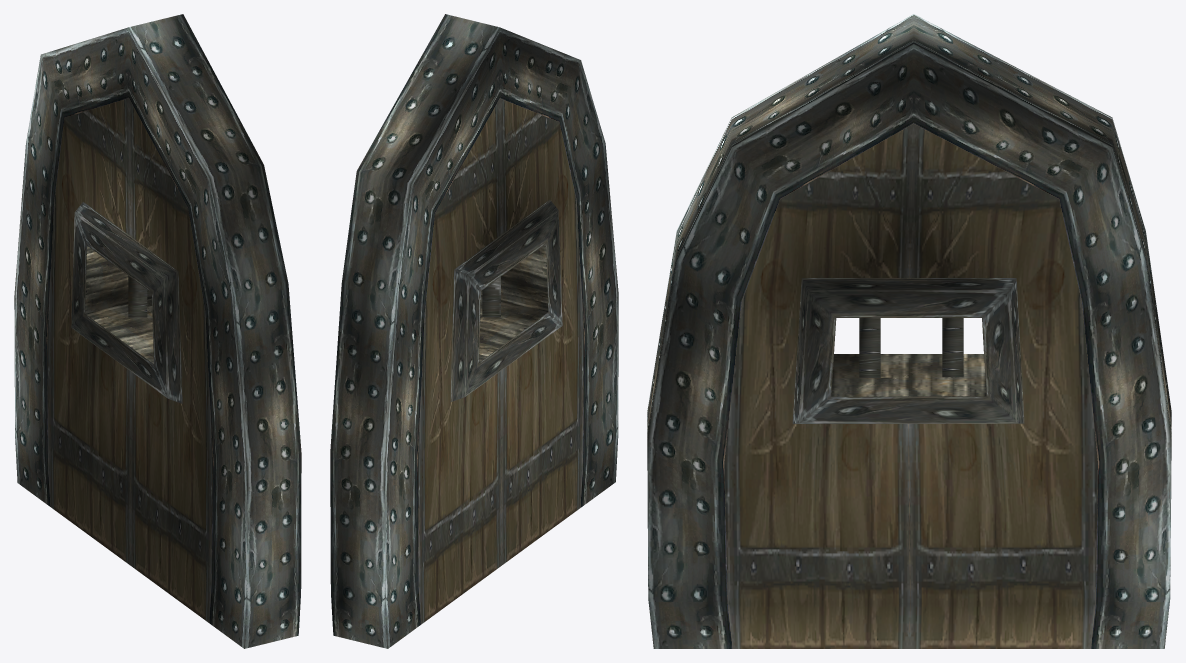
File: shadowfangdoor01.obj
The picture shows the model from 3 angles, left to right: view 1: azimuth 30°, elevation 25°; view 2: azimuth 150°, elevation 25°; view 3: azimuth 270°, elevation 25°; orthographic projection. The views are drawn at different scales.
Visible parts, largest first — view 1: 2, 0, 1; view 2: 2, 0, 1; view 3: 0, 2, 1.
Part boxes in pixels (bbox=[...]): 2: bbox=[14, 14, 301, 648]; 0: bbox=[47, 98, 212, 622]; 1: bbox=[85, 246, 153, 363]; 2: bbox=[330, 14, 618, 648]; 0: bbox=[417, 98, 584, 624]; 1: bbox=[479, 244, 548, 362]; 0: bbox=[724, 124, 1097, 648]; 2: bbox=[647, 14, 1171, 648]; 1: bbox=[831, 354, 986, 396].
Size of the model in its own units: 0.7609 by 5.04 by 3.96.
Materials: 3 (3 with a texture image).
